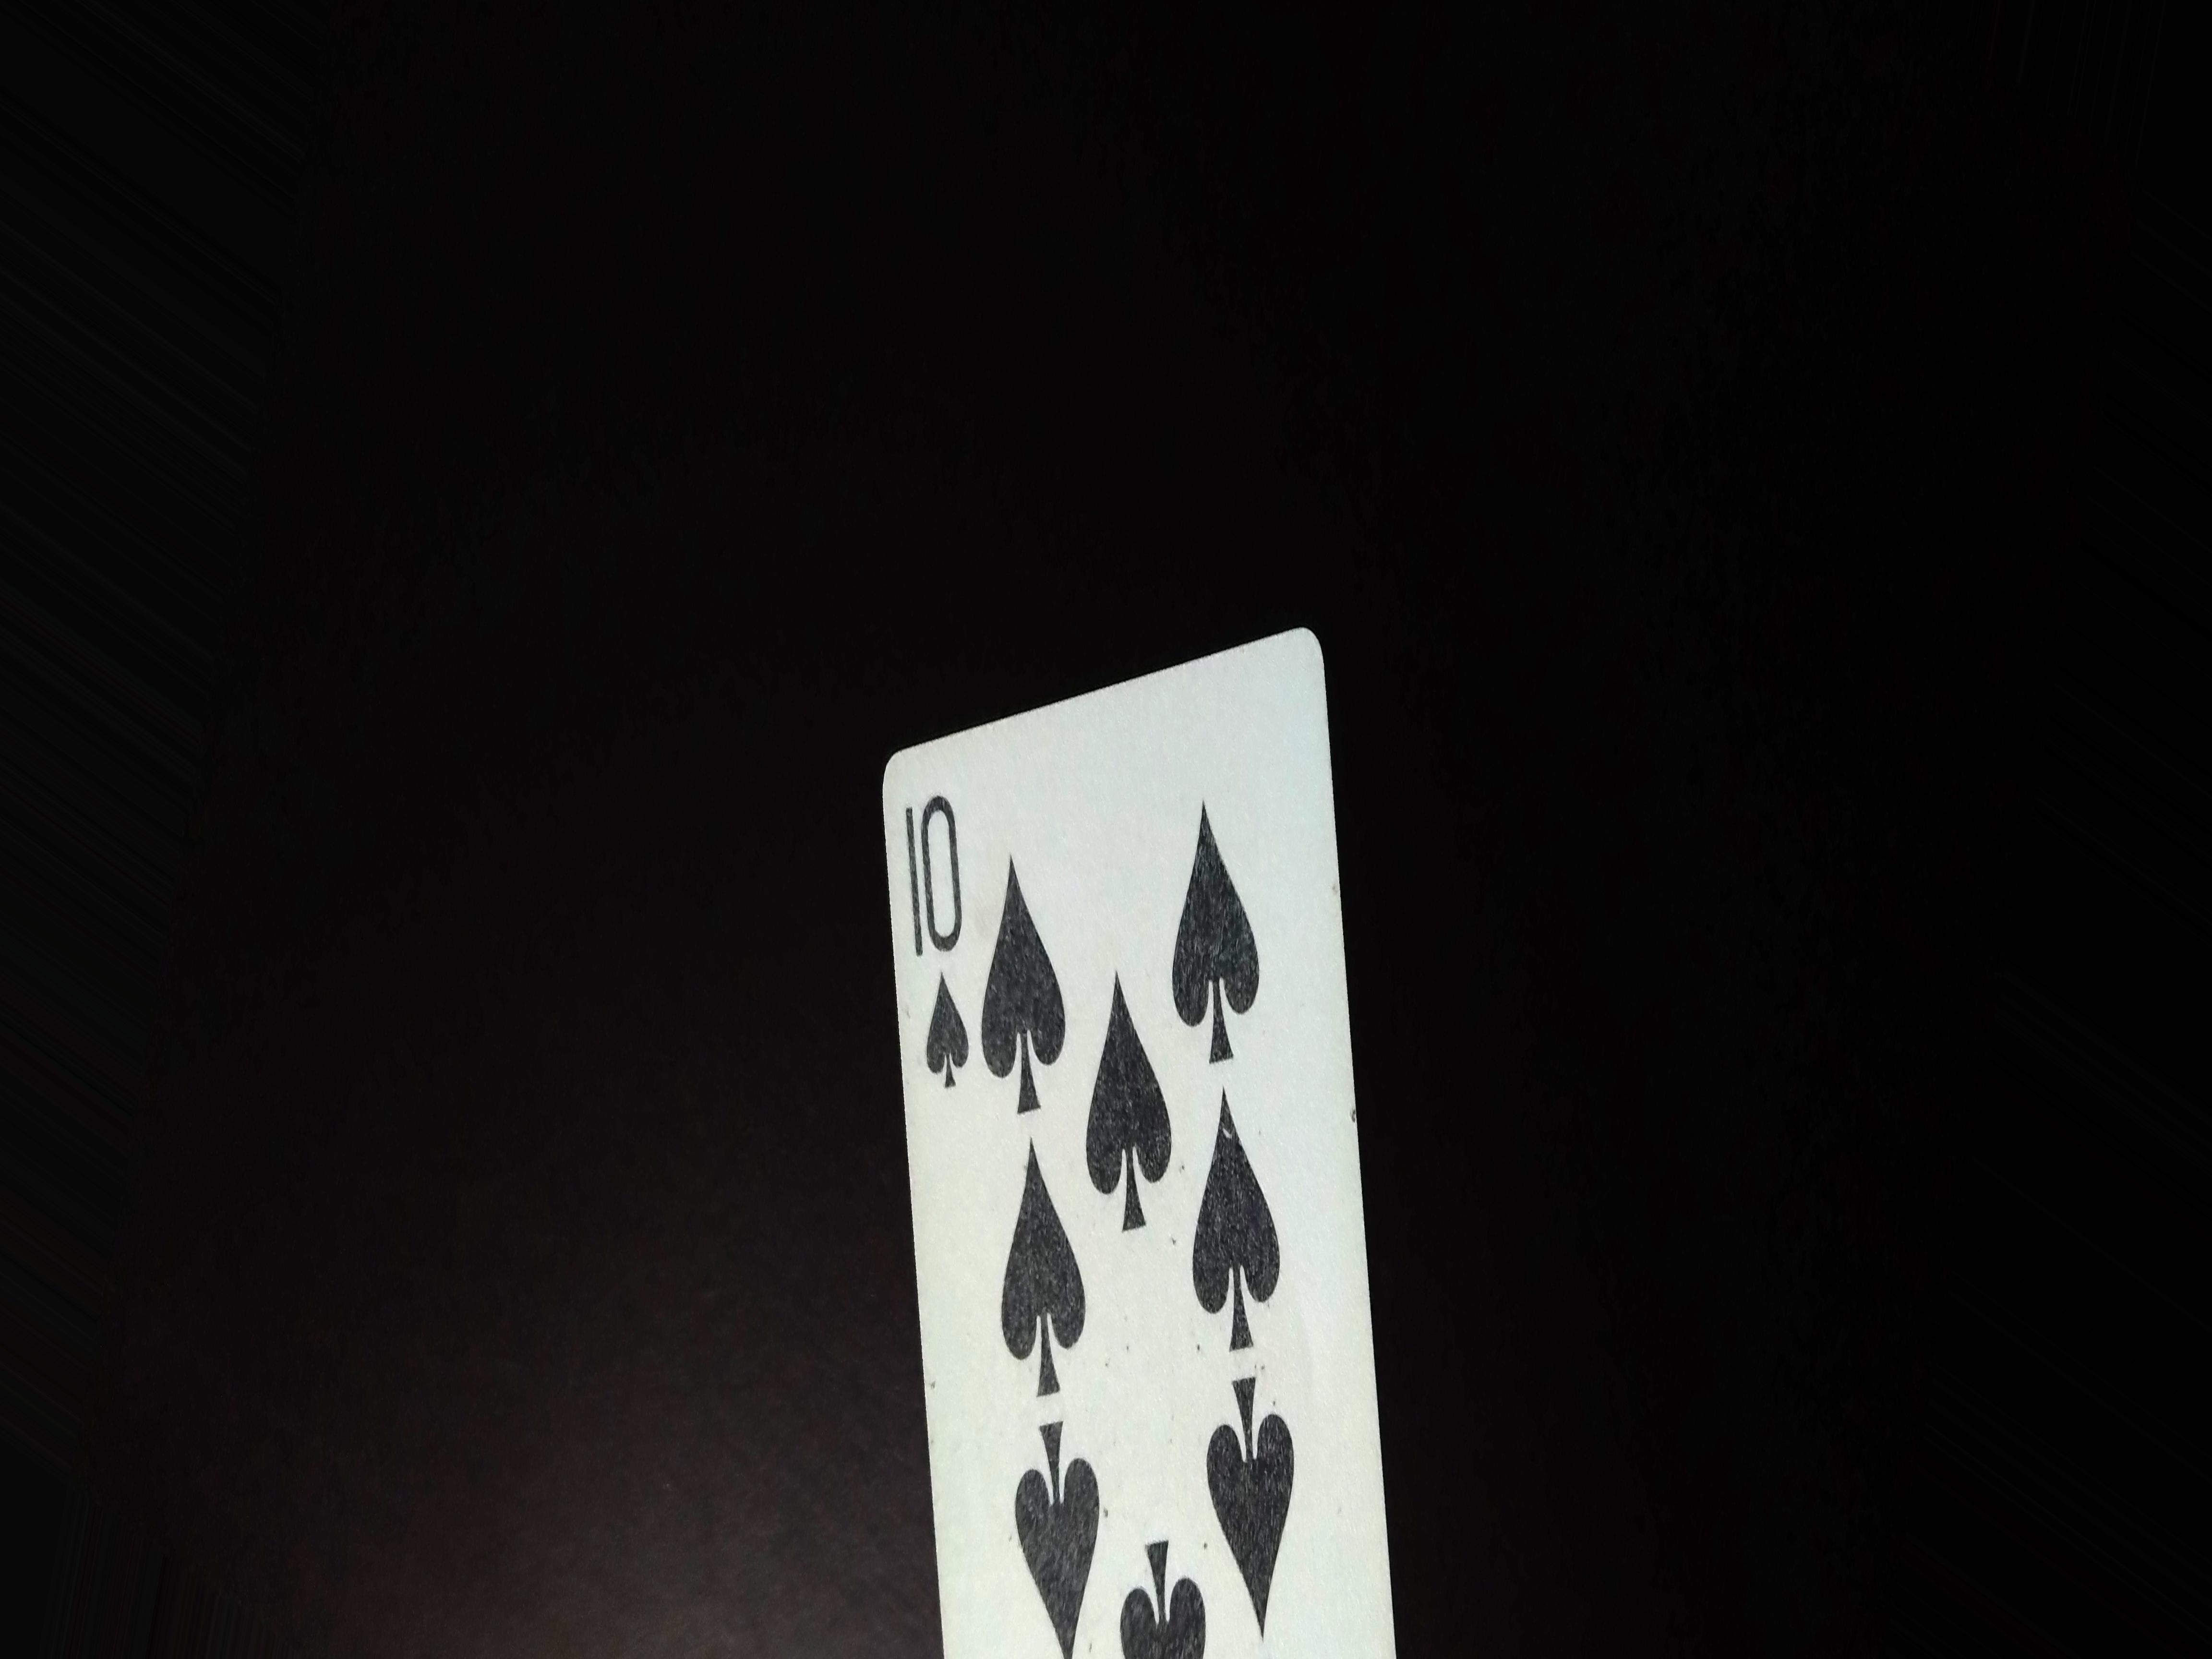10S: (899, 772, 986, 1114)
